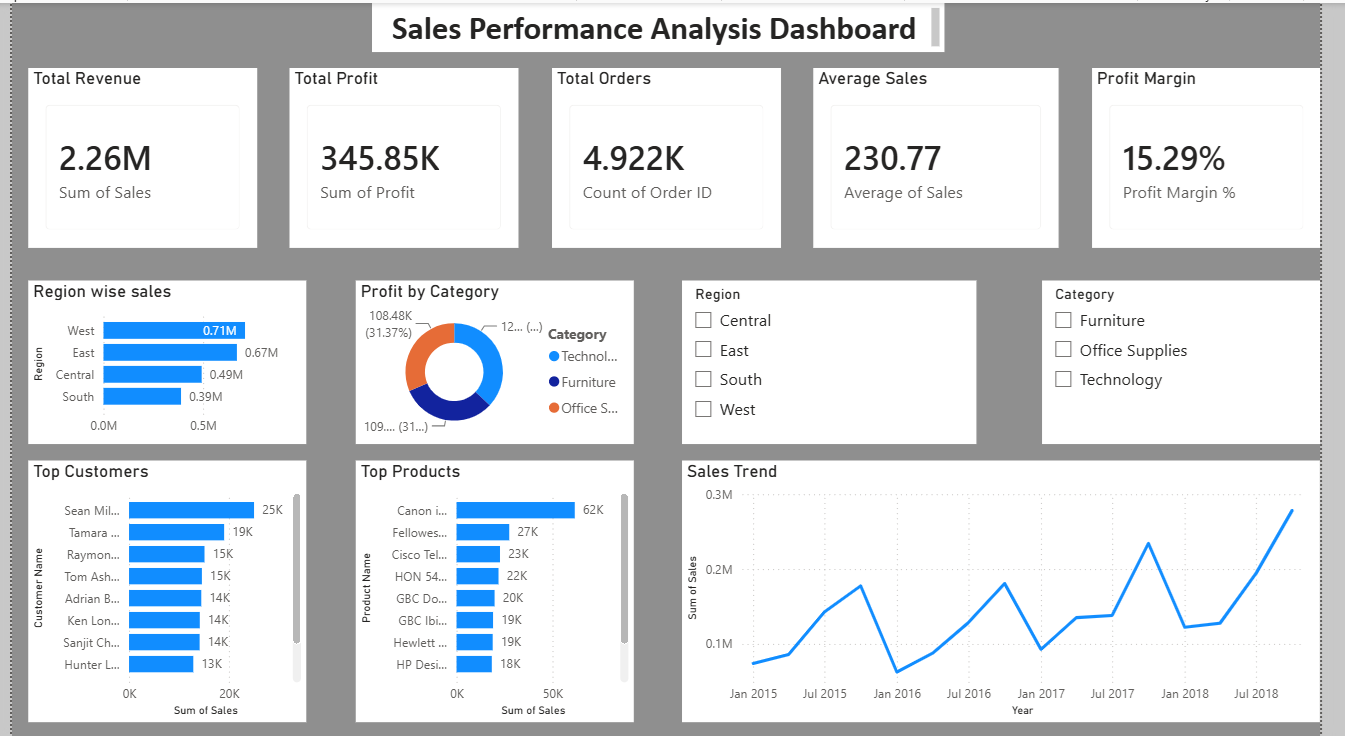

The page's visual inventory and layout, read from the dashboard file:
{"tool":"powerbi","page":{"name":"Page 1","canvas":[1280,720],"ordinal":0},"visuals":[{"type":"cardVisual","title":"Total Revenue","fields":{"Data":["Sum(sales dataset.Sales)"]},"box":[16,64,224,176],"z":0},{"type":"cardVisual","title":"Total Profit","fields":{"Data":["Sum(sales dataset.Profit)"]},"box":[272,64,224,176],"z":1000},{"type":"cardVisual","title":"Total Orders","fields":{"Data":["Count(sales dataset.Order ID)"]},"box":[528,64,224,176],"z":2000},{"type":"cardVisual","title":"Average Sales","fields":{"Data":["Avg(sales dataset.Sales)"]},"box":[784,64,240,176],"z":3000},{"type":"clusteredBarChart","title":"Region wise sales","fields":{"Category":["sales dataset.Region"],"Y":["Sum(sales dataset.Sales)"]},"box":[16,272,272,160],"z":4000},{"type":"donutChart","title":"Profit by Category","fields":{"Category":["sales dataset.Category"],"Y":["Sum(sales dataset.Profit)"]},"box":[336,272,272,160],"z":5000},{"type":"clusteredBarChart","title":"Top Customers","fields":{"Category":["sales dataset.Customer Name"],"Y":["Sum(sales dataset.Sales)"]},"box":[16,448,272,256],"z":6000},{"type":"clusteredBarChart","title":"Top Products","fields":{"Category":["sales dataset.Product Name"],"Y":["Sum(sales dataset.Sales)"]},"box":[336,448,272,256],"z":7000},{"type":"lineChart","title":"Sales Trend","fields":{"Category":["sales dataset.Order Date.Variation.Date Hierarchy.Year","sales dataset.Order Date.Variation.Date Hierarchy.Quarter","sales dataset.Order Date.Variation.Date Hierarchy.Month","sales dataset.Order Date.Variation.Date Hierarchy.Day"],"Y":["Sum(sales dataset.Sales)"]},"box":[656,448,624,256],"z":8000},{"type":"slicer","fields":{"Values":["sales dataset.Region"]},"box":[656,272,288,160],"z":9000},{"type":"slicer","fields":{"Values":["sales dataset.Category"]},"box":[1008,272,272,160],"z":10000},{"type":"textbox","box":[352,0,560,48],"z":11000},{"type":"cardVisual","title":"Profit Margin","fields":{"Data":["sales dataset.Profit Margin %"]},"box":[1056,64,224,176],"z":12000}]}

Visuals, with their boxes in screenshot pixels (x1, y1, x2, y2), scaled from the page's 1280x720 canvas onto the 1345x736 screenshot:
"Total Revenue" cardVisual: box=[17, 65, 252, 245]
"Total Profit" cardVisual: box=[286, 65, 521, 245]
"Total Orders" cardVisual: box=[555, 65, 790, 245]
"Average Sales" cardVisual: box=[824, 65, 1076, 245]
"Region wise sales" clusteredBarChart: box=[17, 278, 303, 442]
"Profit by Category" donutChart: box=[353, 278, 639, 442]
"Top Customers" clusteredBarChart: box=[17, 458, 303, 720]
"Top Products" clusteredBarChart: box=[353, 458, 639, 720]
"Sales Trend" lineChart: box=[689, 458, 1344, 720]
slicer - sales dataset.Region: box=[689, 278, 992, 442]
slicer - sales dataset.Category: box=[1059, 278, 1344, 442]
textbox: box=[370, 0, 958, 49]
"Profit Margin" cardVisual: box=[1110, 65, 1344, 245]
